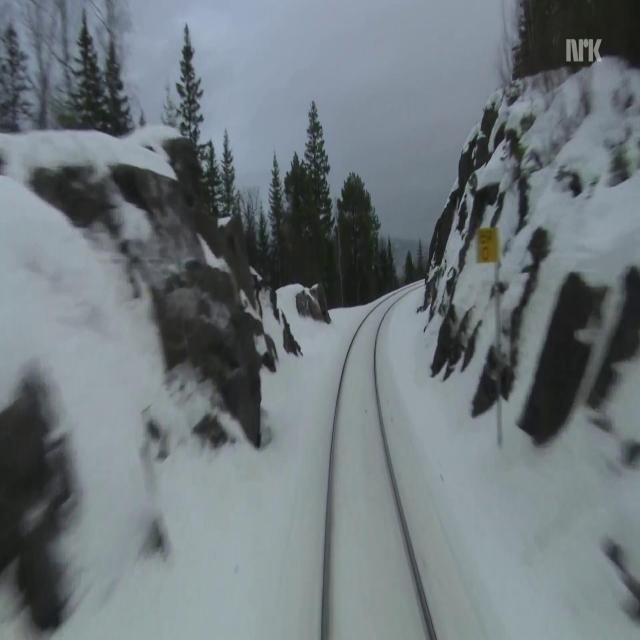rail-track: (326, 286, 431, 639)
